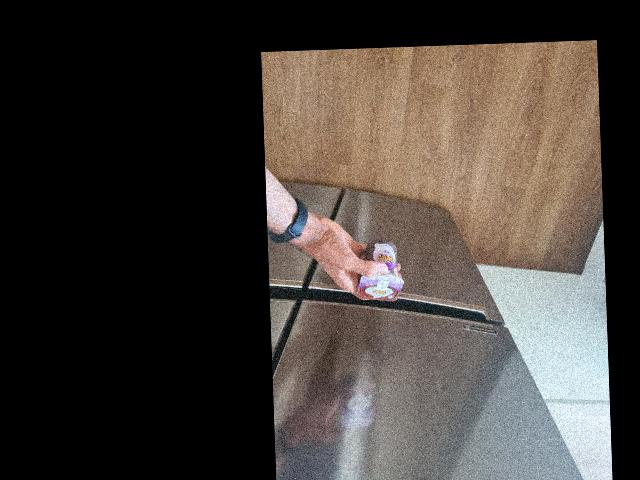milky: (358, 236, 405, 304)
